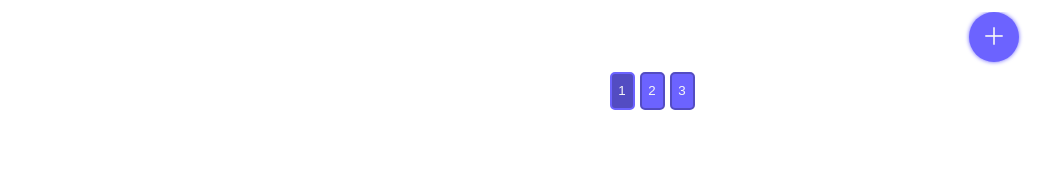
Test: Footer component › update url param "page" when pagination button clicked
Step 1. Click the button "2" → (652, 91), box [640,72,664,110]
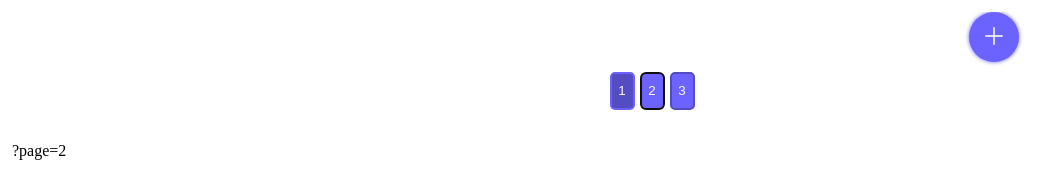
Now the text with test id "location-display" shows "page=2", box [12,142,66,158]
Step 2. Click the button "3" → (682, 91), box [670,72,694,110]
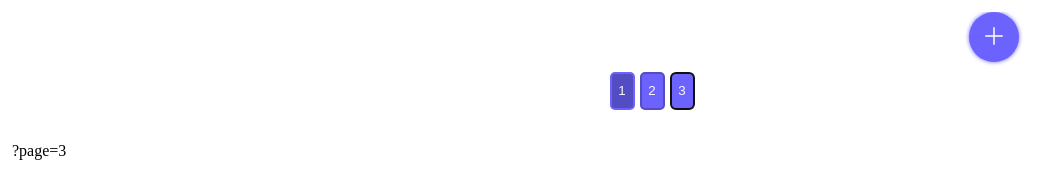
Now the text with test id "location-display" shows "page=3", box [12,142,66,158]
